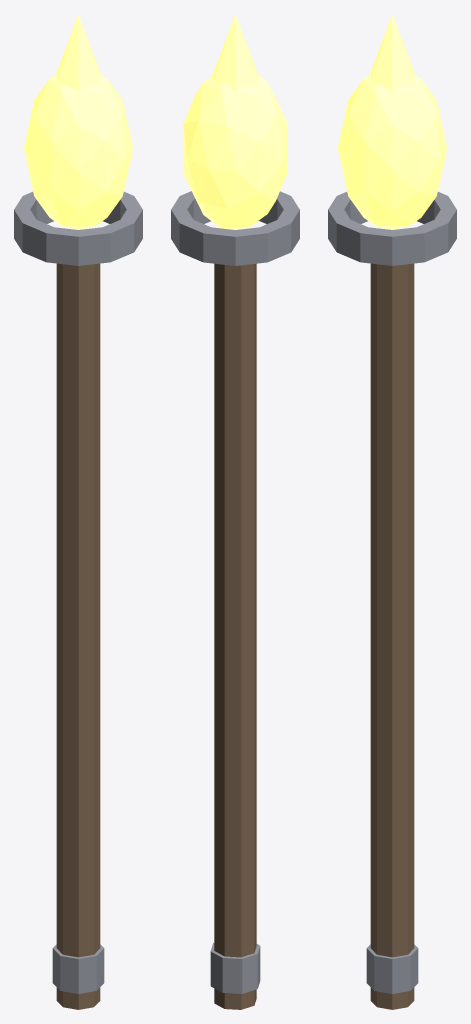
File: staff_fire.glb
3 renders of one model, left to right at view 1: azimuth 90°, elevation 25°; view 2: azimuth 150°, elevation 25°; view 3: azimuth 270°, elevation 25°, orthographic.
Visible parts, largest first — view 1: staff_fire_00, staff_fire_02, staff_fire_01, staff_fire_04, staff_fire_03; view 2: staff_fire_00, staff_fire_02, staff_fire_01, staff_fire_04, staff_fire_03; view 3: staff_fire_00, staff_fire_02, staff_fire_01, staff_fire_04, staff_fire_03.
Part boxes in pixels (box(x1,y1,x2,y2)): staff_fire_00: box(56, 263, 100, 1009); staff_fire_02: box(23, 74, 133, 229); staff_fire_01: box(14, 192, 142, 265); staff_fire_04: box(52, 944, 104, 993); staff_fire_03: box(56, 14, 100, 92); staff_fire_00: box(214, 263, 256, 1009); staff_fire_02: box(183, 74, 287, 229); staff_fire_01: box(171, 191, 299, 265); staff_fire_04: box(210, 943, 260, 993); staff_fire_03: box(212, 14, 258, 90); staff_fire_00: box(370, 263, 414, 1009); staff_fire_02: box(337, 74, 447, 229); staff_fire_01: box(328, 192, 456, 265); staff_fire_04: box(366, 944, 418, 993); staff_fire_03: box(370, 14, 414, 92).
Bounding box in the file's own units: 0.2 × 1.69 × 0.2.
